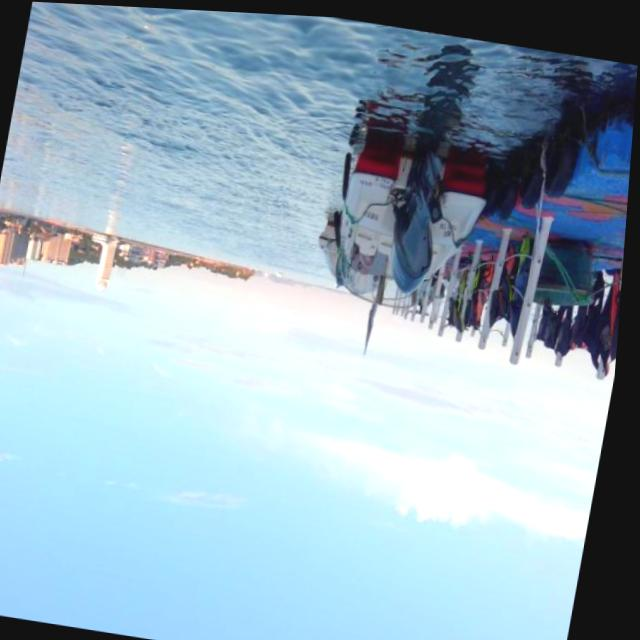ship2: (341, 137, 489, 325)
